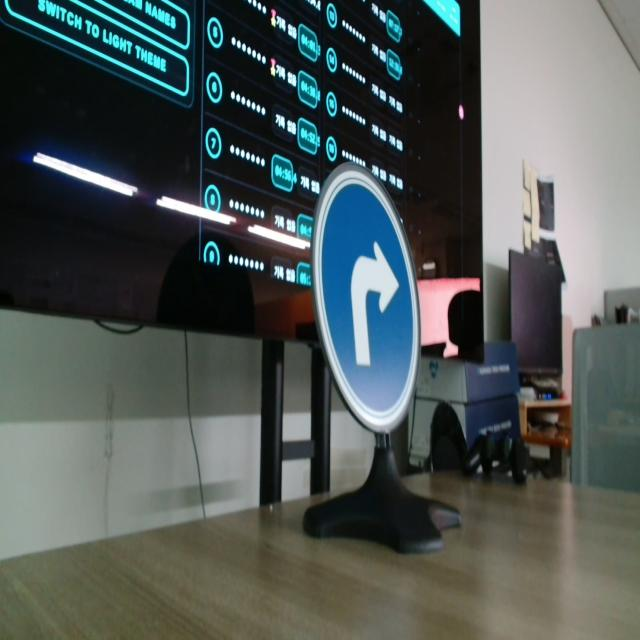right_dierection: (311, 155, 431, 458)
